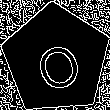O_N: (28, 28, 85, 91)
